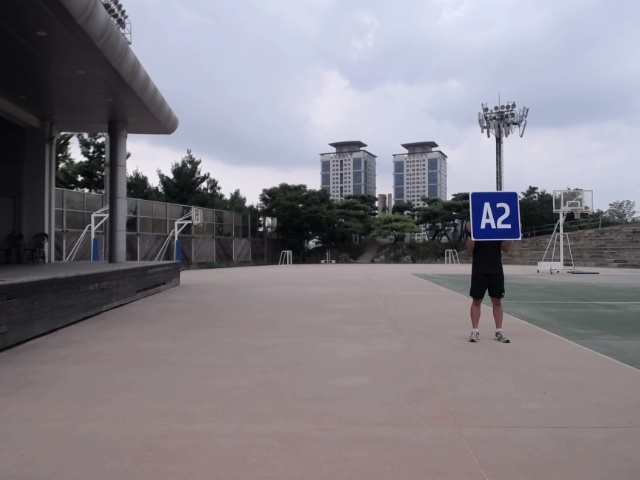delivery_a2: (471, 192, 521, 240)
